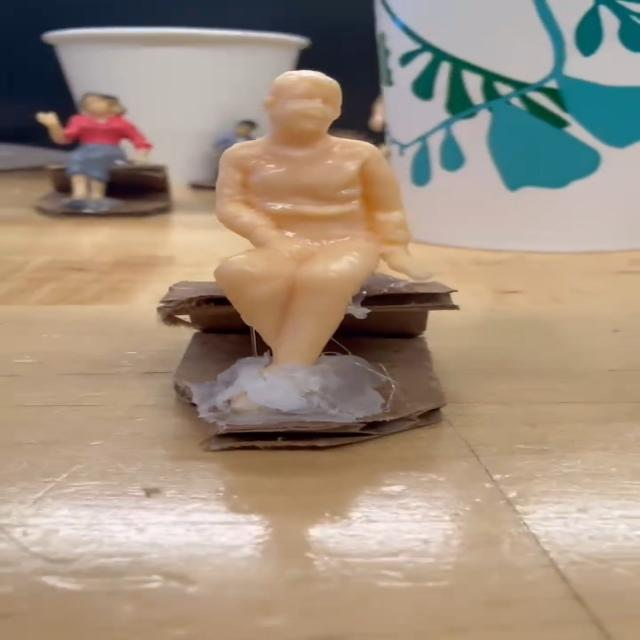Unauthorized: (215, 66, 429, 394)
